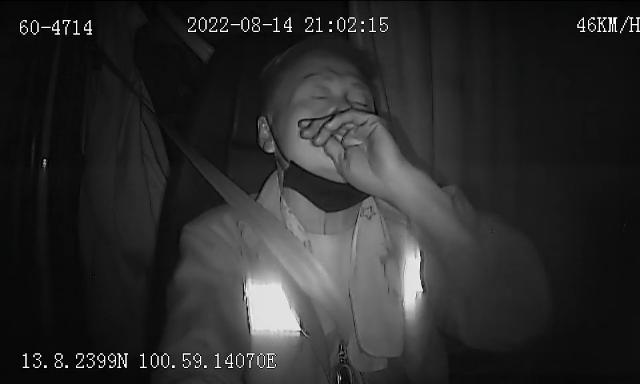Seatbelt: (163, 128, 357, 344)
